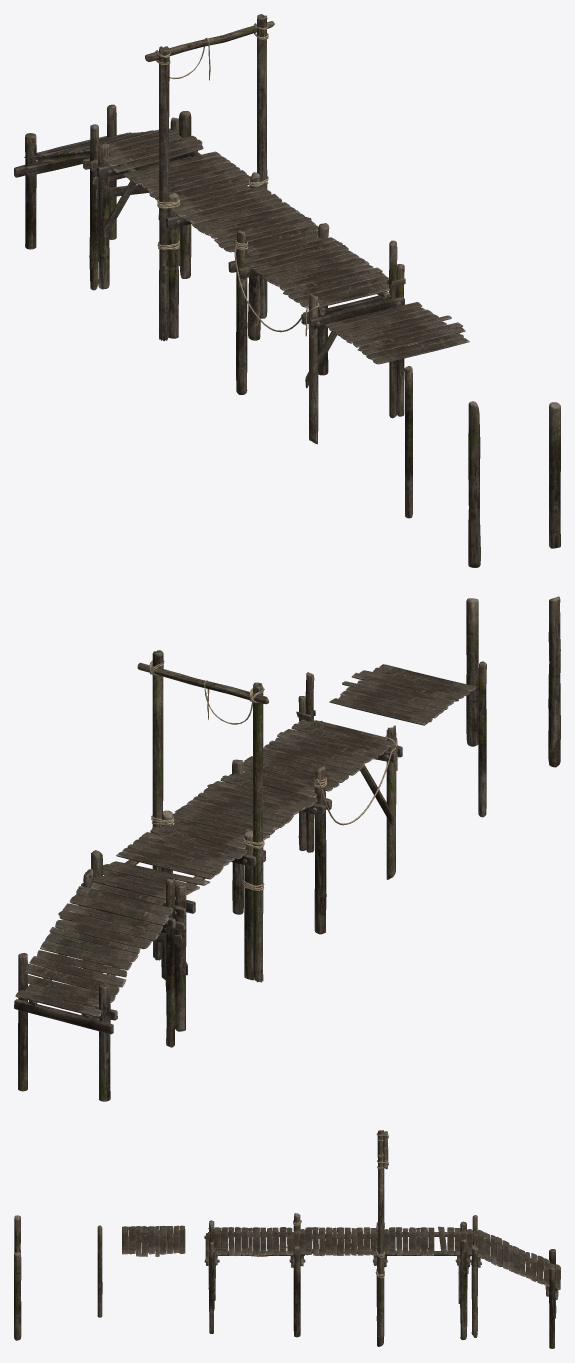
File: modular_wooden_pier.glb
3 renders of one model, top to bottom at view 1: azimuth 30°, elevation 25°; view 2: azimuth 150°, elevation 25°; view 3: azimuth 270°, elevation 25°, orthographic. The views are drawn at different scales.
Visible parts, largest first — view 1: modular_wooden_pier_section_01, modular_wooden_pier_section_03, modular_wooden_pier_section_02, modular_wooden_pier_section_05, modular_wooden_pier_section_04, modular_wooden_pier_planks, modular_wooden_pier_poles; view 2: modular_wooden_pier_section_04, modular_wooden_pier_section_01, modular_wooden_pier_section_03, modular_wooden_pier_section_02, modular_wooden_pier_section_05, modular_wooden_pier_poles, modular_wooden_pier_planks; view 3: modular_wooden_pier_section_01, modular_wooden_pier_section_04, modular_wooden_pier_section_03, modular_wooden_pier_section_02, modular_wooden_pier_planks, modular_wooden_pier_section_05, modular_wooden_pier_poles.
Boxes of the visible parts, bbox=[...] form: modular_wooden_pier_section_01: bbox=[228, 223, 405, 444]; modular_wooden_pier_section_03: bbox=[89, 111, 250, 289]; modular_wooden_pier_section_02: bbox=[158, 172, 318, 340]; modular_wooden_pier_section_05: bbox=[145, 14, 274, 341]; modular_wooden_pier_section_04: bbox=[14, 104, 179, 290]; modular_wooden_pier_planks: bbox=[325, 302, 469, 364]; modular_wooden_pier_poles: bbox=[404, 366, 560, 567]; modular_wooden_pier_section_04: bbox=[14, 868, 175, 1101]; modular_wooden_pier_section_01: bbox=[229, 672, 402, 934]; modular_wooden_pier_section_03: bbox=[81, 827, 247, 1031]; modular_wooden_pier_section_02: bbox=[160, 775, 317, 980]; modular_wooden_pier_section_05: bbox=[137, 650, 268, 982]; modular_wooden_pier_poles: bbox=[466, 596, 560, 817]; modular_wooden_pier_planks: bbox=[329, 664, 476, 725]; modular_wooden_pier_section_01: bbox=[204, 1213, 305, 1337]; modular_wooden_pier_section_04: bbox=[471, 1215, 560, 1348]; modular_wooden_pier_section_03: bbox=[376, 1221, 473, 1339]; modular_wooden_pier_section_02: bbox=[292, 1222, 389, 1346]; modular_wooden_pier_planks: bbox=[122, 1225, 185, 1256]; modular_wooden_pier_section_05: bbox=[375, 1130, 388, 1337]; modular_wooden_pier_poles: bbox=[14, 1215, 102, 1340].
Size of the model in its own units: 3.1 by 7.51 by 19.03.
Materials: 2 (2 with a texture image).
